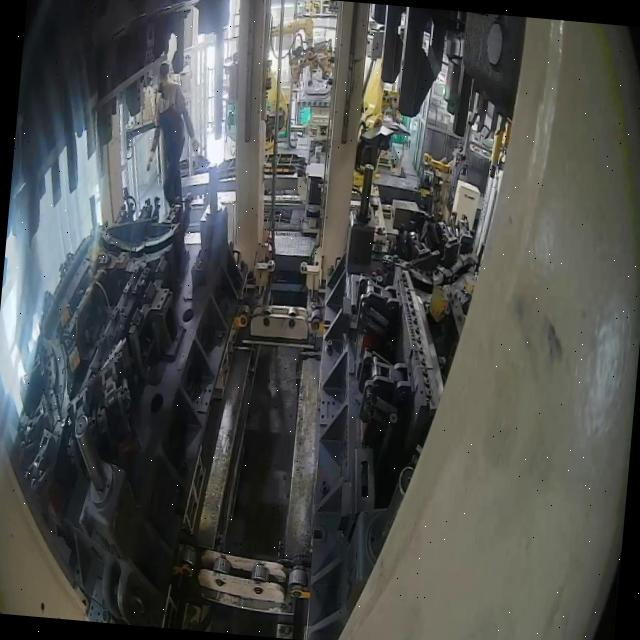Person: (143, 59, 207, 212), (262, 66, 292, 138)
